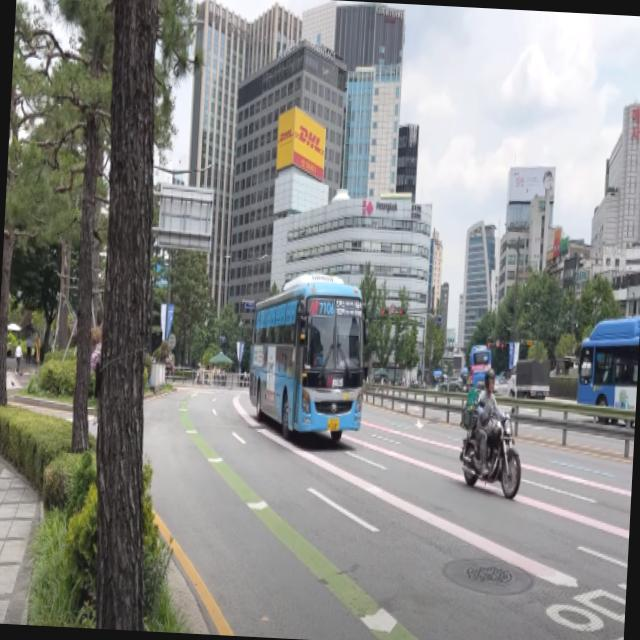bus-number: (318, 301, 335, 316)
